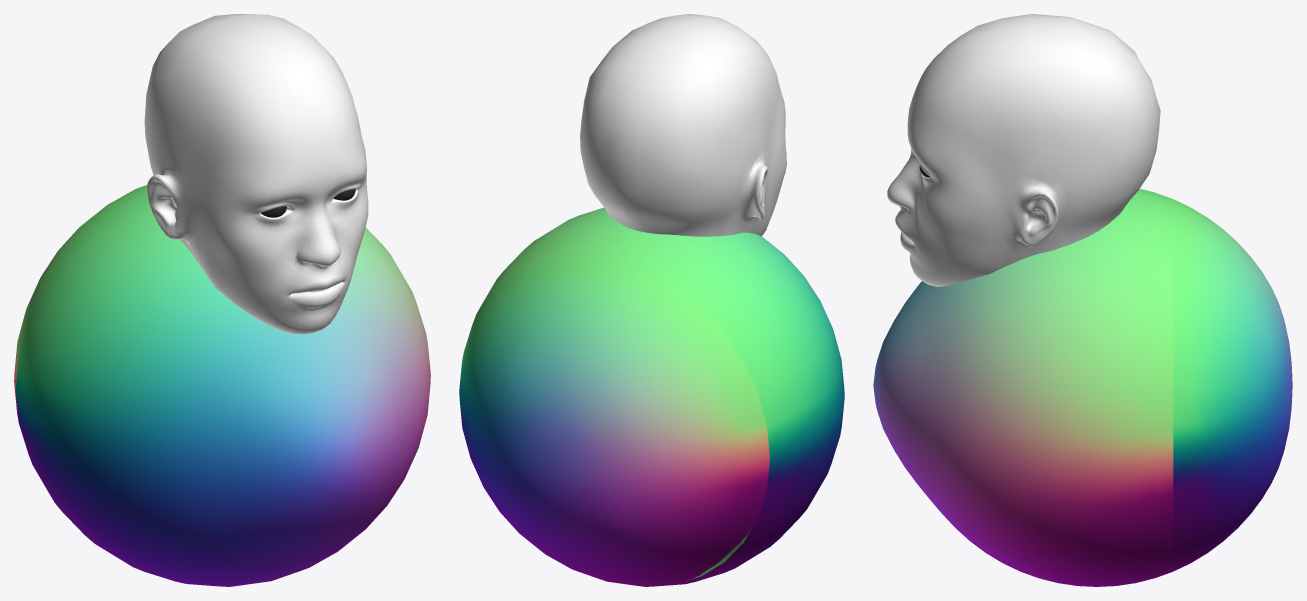
Rendered from showcase.glb.
The picture shows the model from 3 angles, left to right: view 1: azimuth 30°, elevation 25°; view 2: azimuth 150°, elevation 25°; view 3: azimuth 270°, elevation 25°; orthographic projection. The views are drawn at different scales.
Visible parts, largest first — view 1: eye, skin; view 2: eye, skin; view 3: eye, skin.
Part boxes in pixels (x1,y1,x2,y2): eye: (14, 185, 430, 586); skin: (144, 14, 368, 334); eye: (459, 207, 844, 586); skin: (580, 14, 786, 236); eye: (873, 188, 1292, 586); skin: (887, 14, 1160, 286).
Size of the model in its own units: 1 by 1.49 by 1.04.
Materials: 3 (1 with a texture image).
